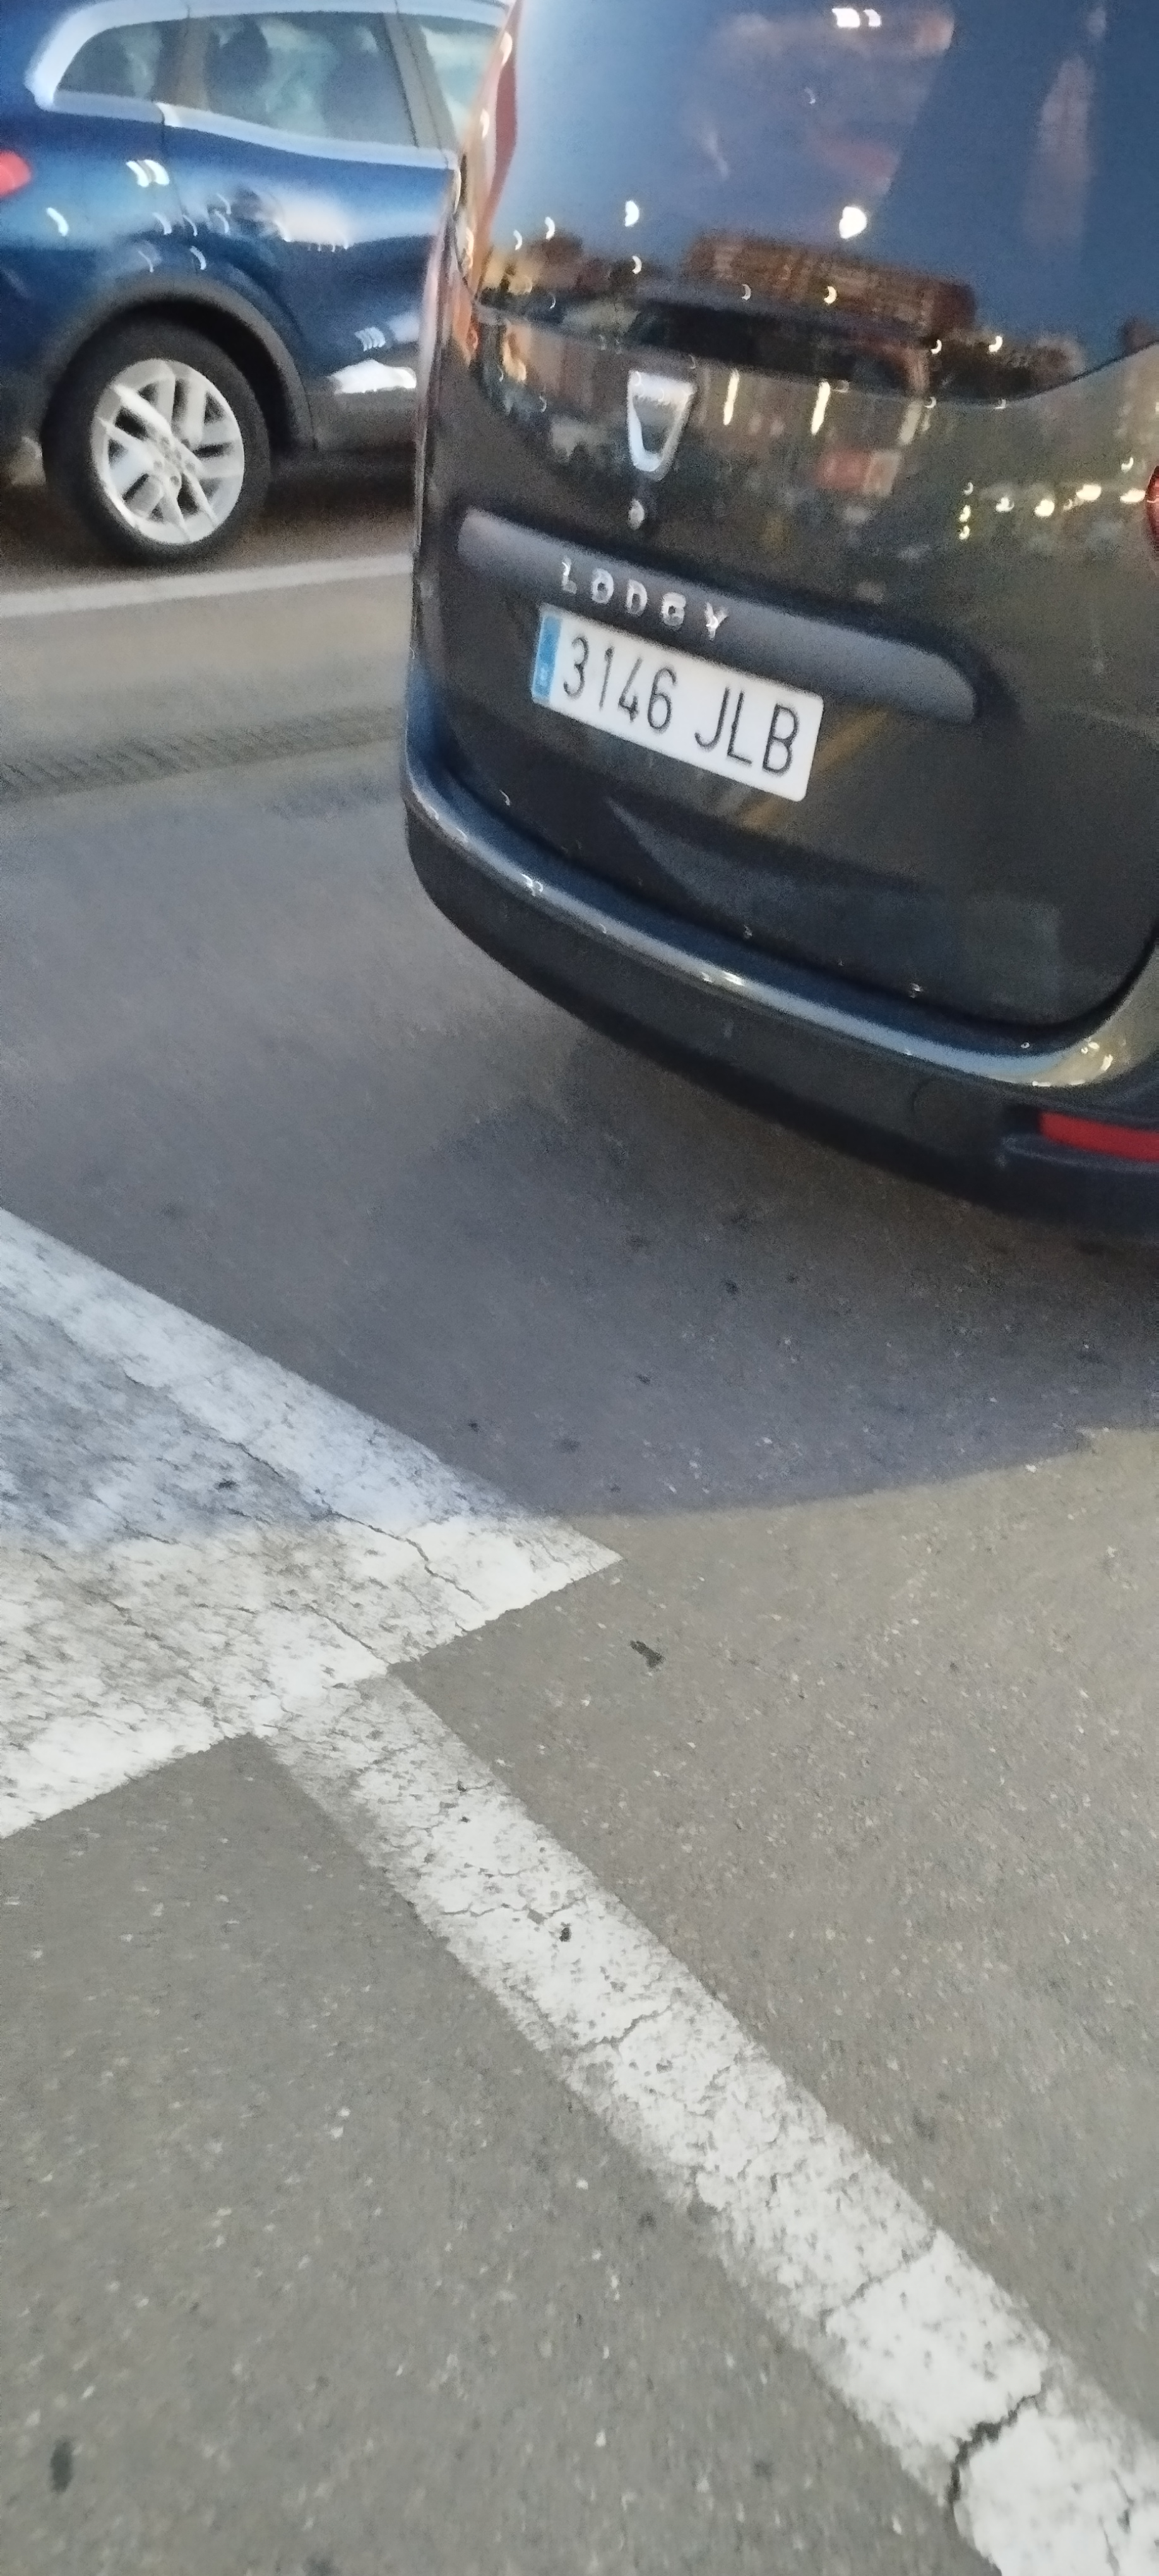Plate: (550, 603, 852, 711)
